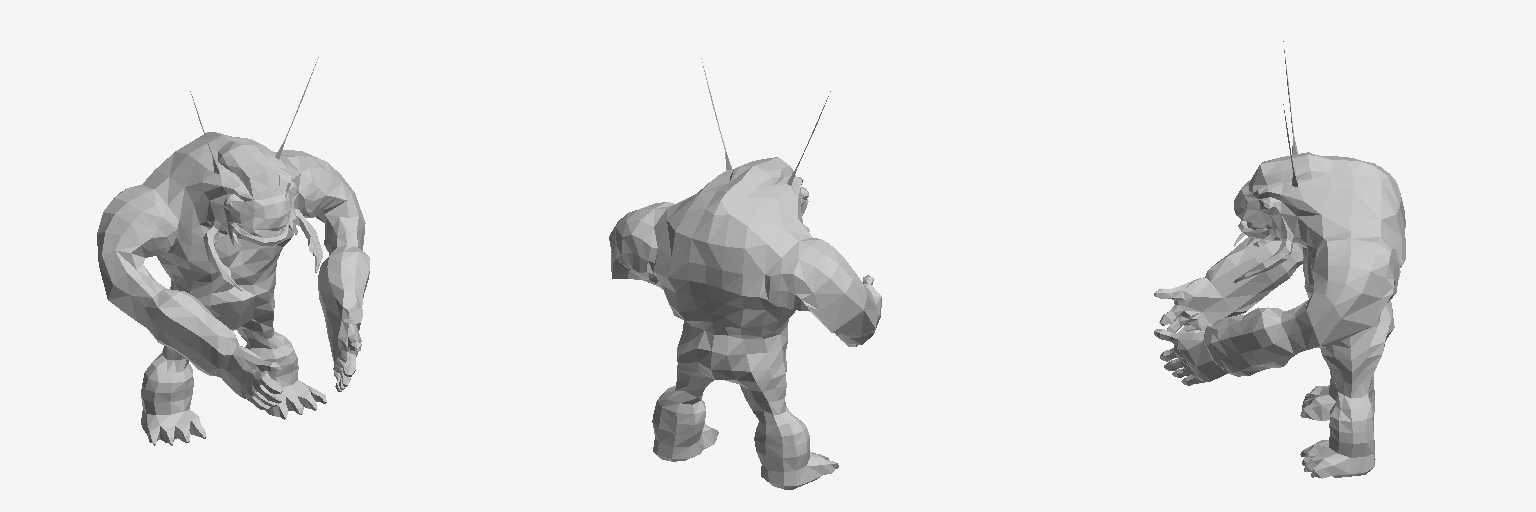
Rendered from Ataque6.obj.
The picture shows the model from 3 angles: view 1: azimuth 30°, elevation 25°; view 2: azimuth 150°, elevation 25°; view 3: azimuth 270°, elevation 25°; orthographic projection.
Parts seen in each view (by area): view 1: Umber_Hulk_2:Umber_Hulk_1; view 2: Umber_Hulk_2:Umber_Hulk_1; view 3: Umber_Hulk_2:Umber_Hulk_1.
Boxes of the visible parts, box(x1,y1,x2,y2) form: Umber_Hulk_2:Umber_Hulk_1: box(97, 57, 369, 445); Umber_Hulk_2:Umber_Hulk_1: box(609, 58, 881, 489); Umber_Hulk_2:Umber_Hulk_1: box(1154, 41, 1405, 478).
Bounding box in the file's own units: 89.07 × 124 × 76.14.